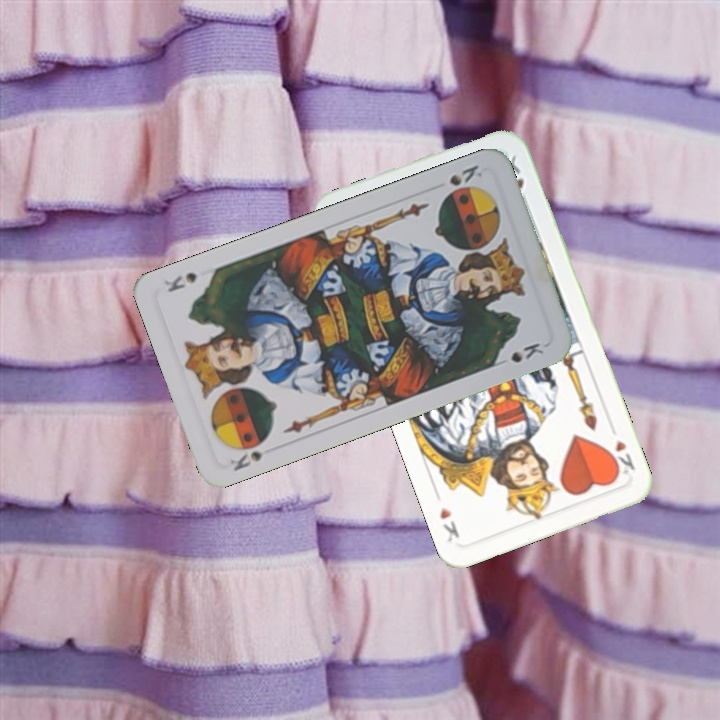HK: (605, 435, 638, 482)
SK: (226, 446, 267, 474), (445, 161, 485, 189)
